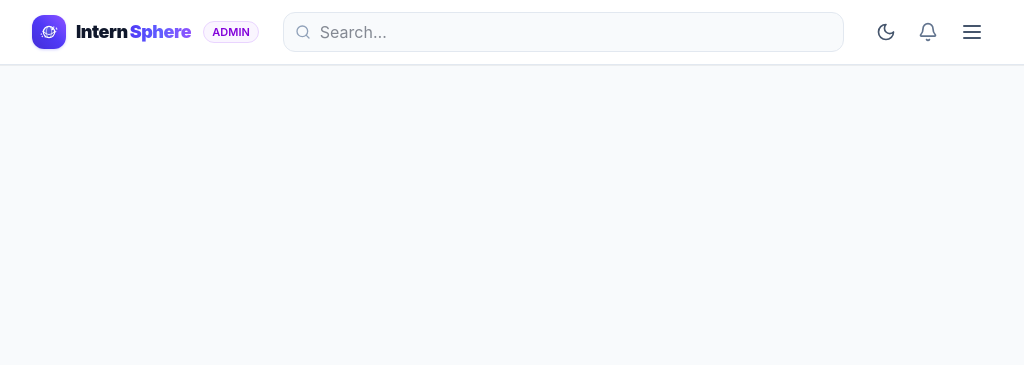
Navbar menus › shows a search error and retries without closing the other navigation UI
The width and height of the screenshot is (1024, 365).
Press k
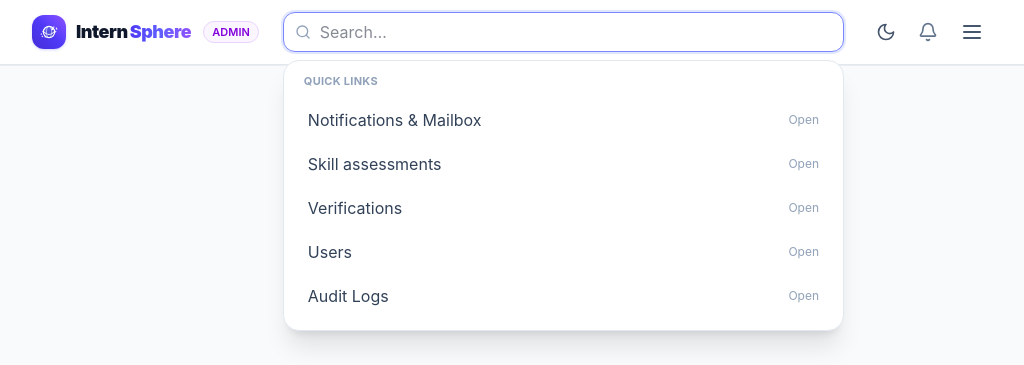
Type "audit" into the dropdown named "Search InternSphere" at [563, 32], box [283,12,844,52]
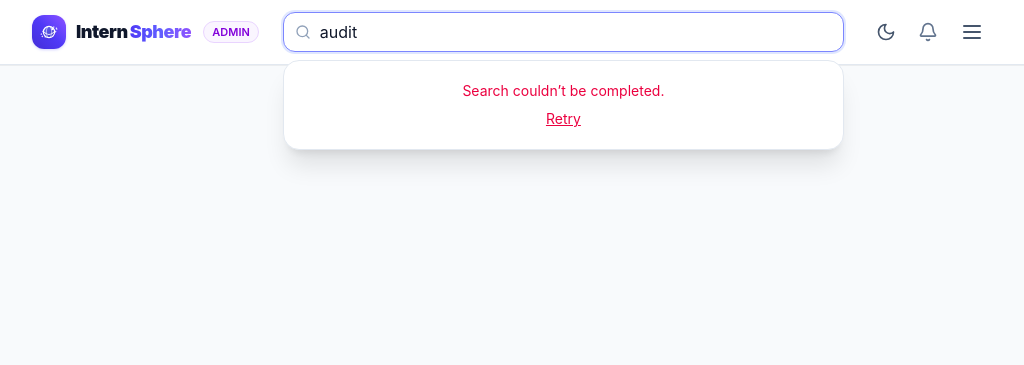
expect the text "Search couldn’t be completed." is shown: met, box [462,82,664,99]
Click the button "Retry" at [563, 119], box [546,109,581,129]
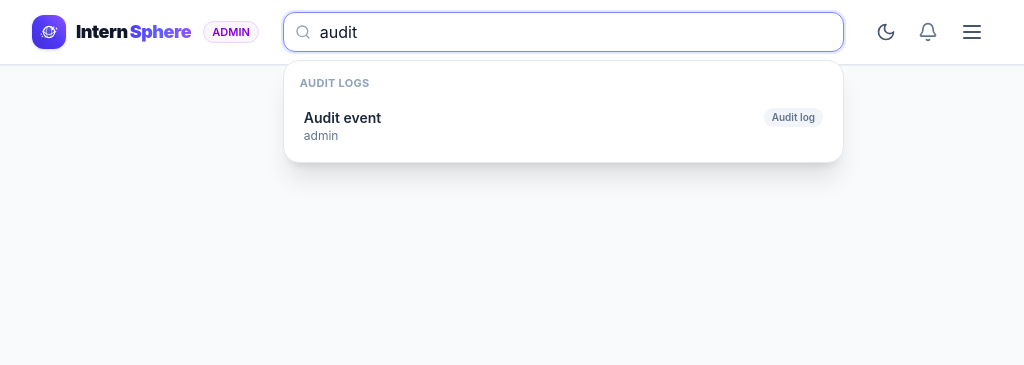
expect the text "Audit event" is shown: met, box [304,108,381,126]
